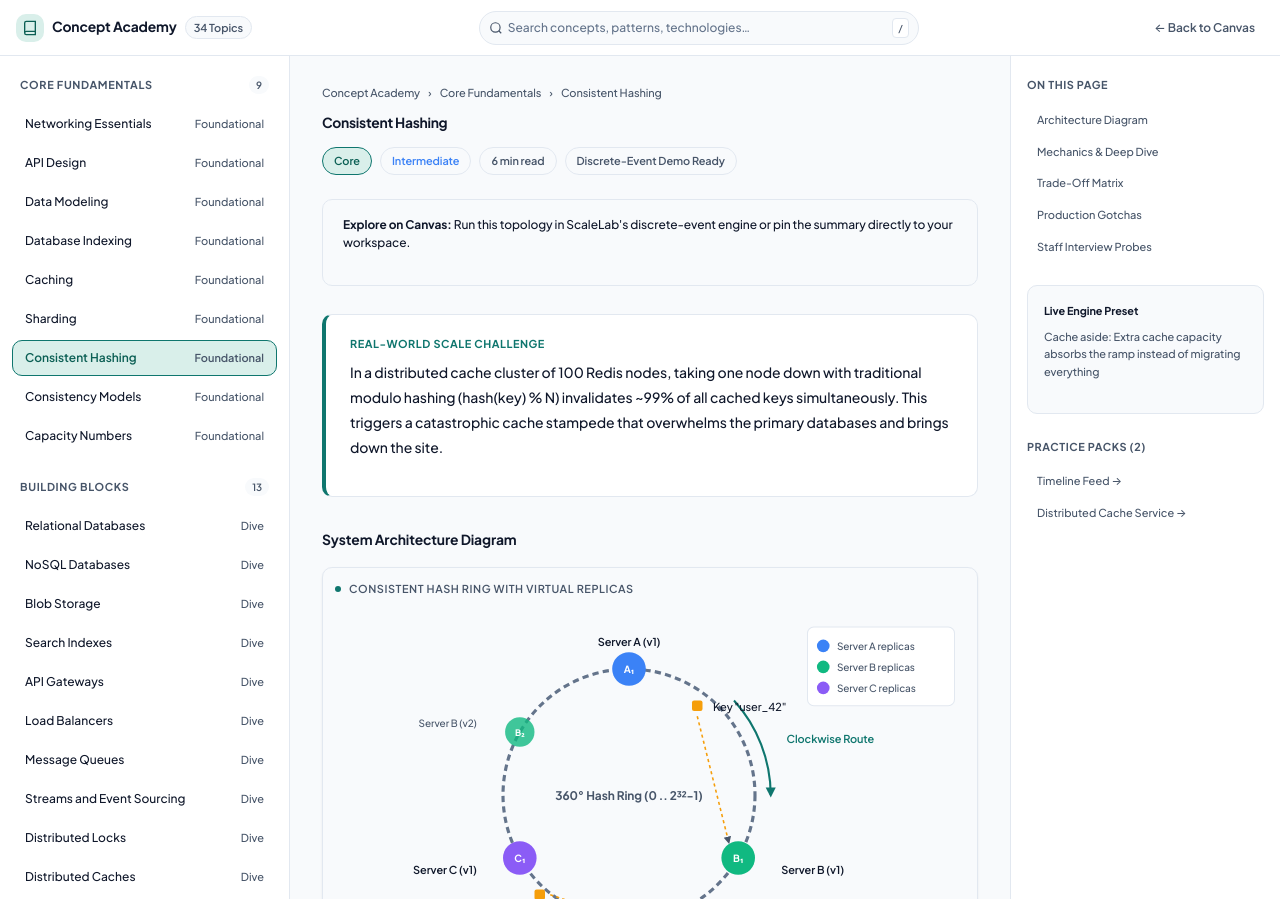
it: ConceptsView component › switches active article on sidebar item click
The width and height of the screenshot is (1280, 899).
Click the button with class "concepts-nav-item" showing "Caching Foundational": (49, 280) [12,262,277,298]
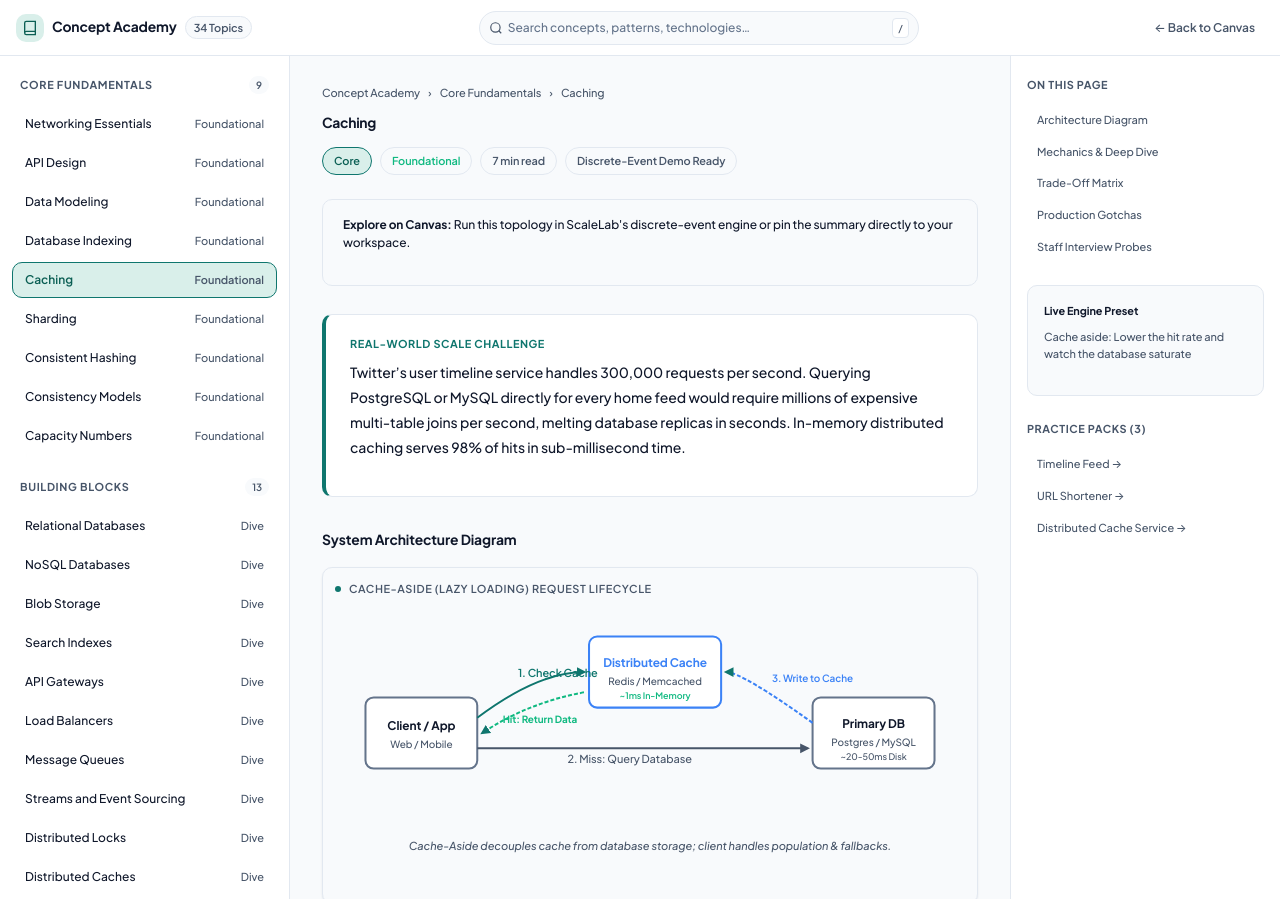
expect the text "Cache-Aside (Lazy Loading) Request Lifecycle" is shown: met, box [335,582,652,596]
